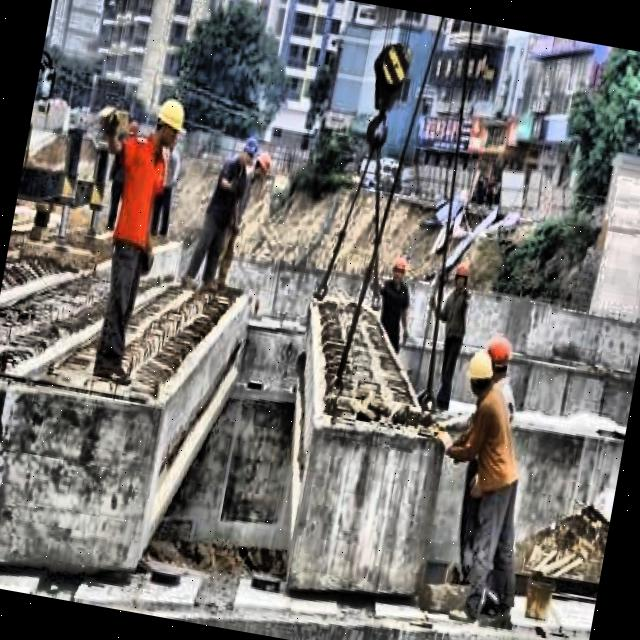helmet: (144, 91, 190, 155), (462, 348, 501, 399), (479, 328, 518, 379), (233, 131, 260, 168), (386, 250, 412, 284), (449, 254, 471, 294), (249, 151, 274, 184)
